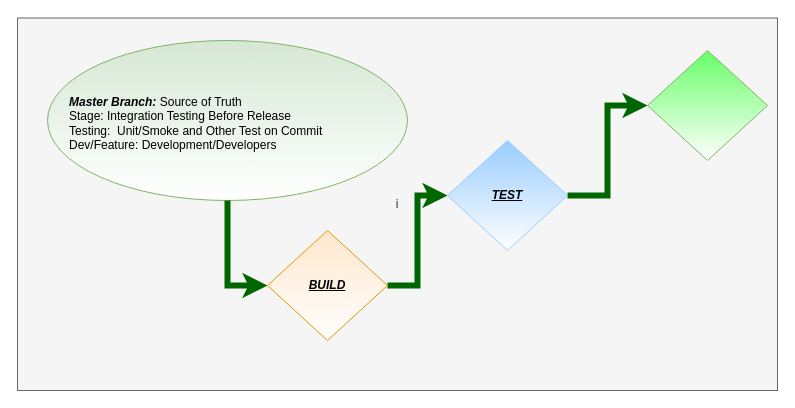
This 795x408 diagram has some shape labels left out. The box of each missing label's shape, as (x1, y1, x2, y2) in pixels:
DEPLOY: (646, 50, 768, 160)
Source Code Repository: (46, 40, 408, 200)
